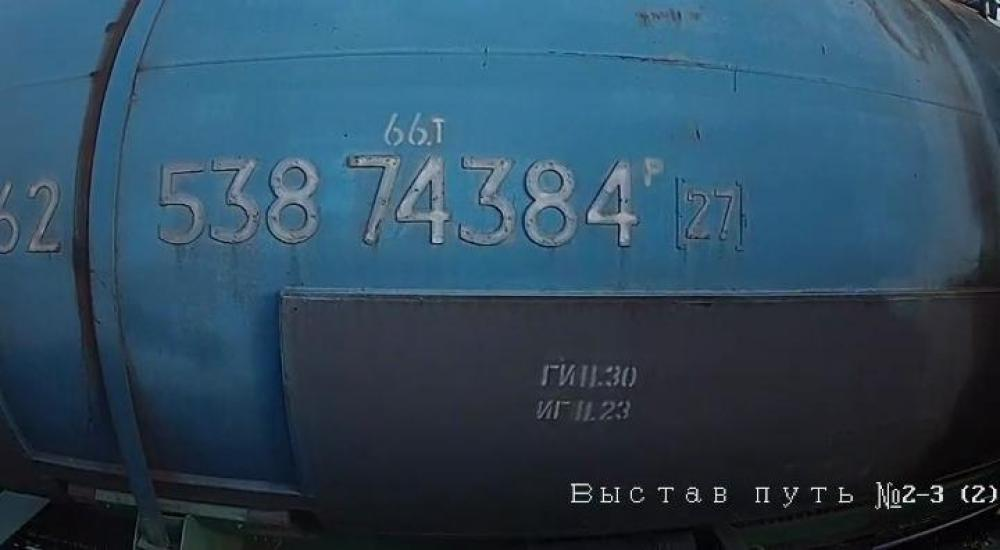Wagon-number: (148, 151, 642, 254)
